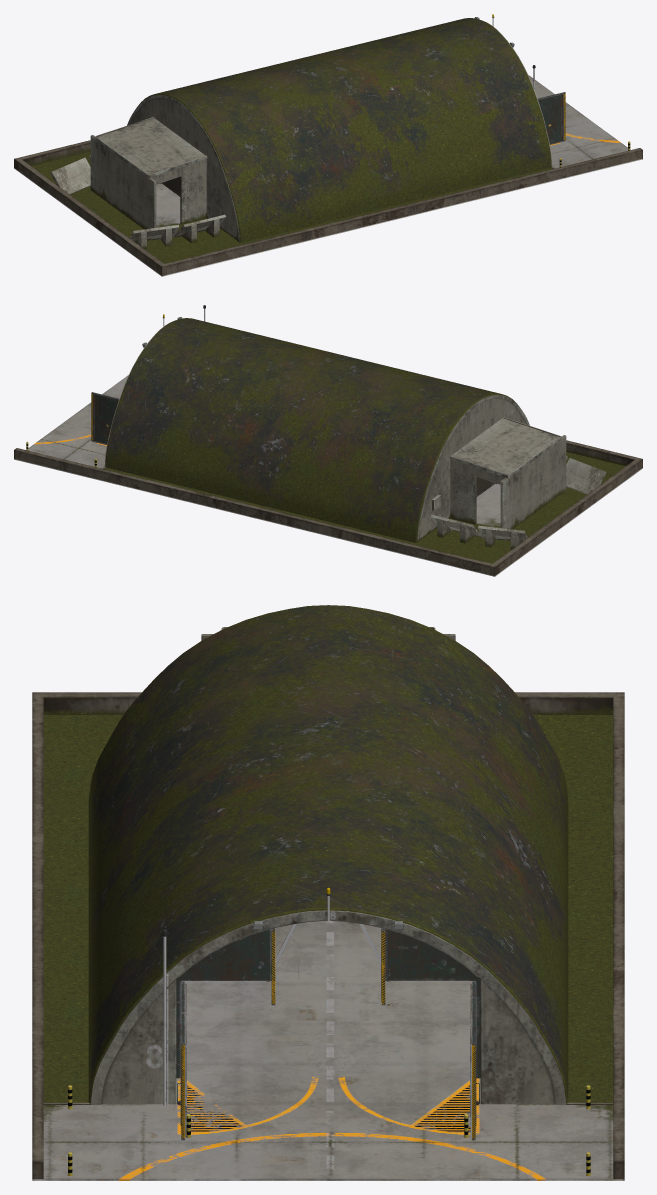
The model's file is uploads_files_4309630_NATO_Shelter_V1.fbx.
The picture shows the model from 3 angles, top to bottom: view 1: azimuth 30°, elevation 25°; view 2: azimuth 150°, elevation 25°; view 3: azimuth 270°, elevation 25°; orthographic projection. The views are drawn at different scales.
Parts seen in each view (by area): view 1: SHELTER, SOL, Protection Arr, Exterieur DOOR Big AV_Left; view 2: SHELTER, SOL, Protection Arr, Exterieur DOOR Big AV_Right; view 3: SHELTER, SOL, Exterieur DOOR Big AV_Right, Exterieur DOOR Big AV_Left.
Part boxes in pixels (x1,y1,x2,y2): SHELTER: (127,14,552,242); SOL: (14,75,642,276); Protection Arr: (50,156,225,249); Exterieur DOOR Big AV_Left: (537,92,565,144); SHELTER: (104,305,529,542); SOL: (14,375,642,576); Protection Arr: (431,456,606,549); Exterieur DOOR Big AV_Right: (91,392,119,444); SHELTER: (88,605,568,1105); SOL: (32,627,624,1180); Exterieur DOOR Big AV_Right: (467,981,479,1140); Exterieur DOOR Big AV_Left: (177,981,189,1140).
Size of the model in its own units: 5061 by 1100 by 2699.
